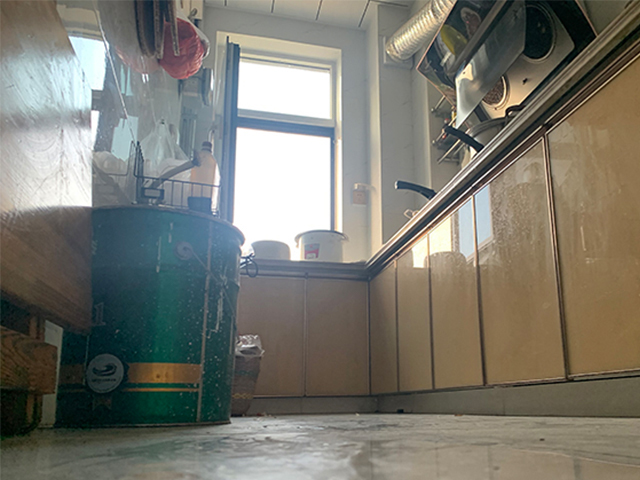cabinet: (371, 205, 632, 440), (237, 261, 369, 416)
